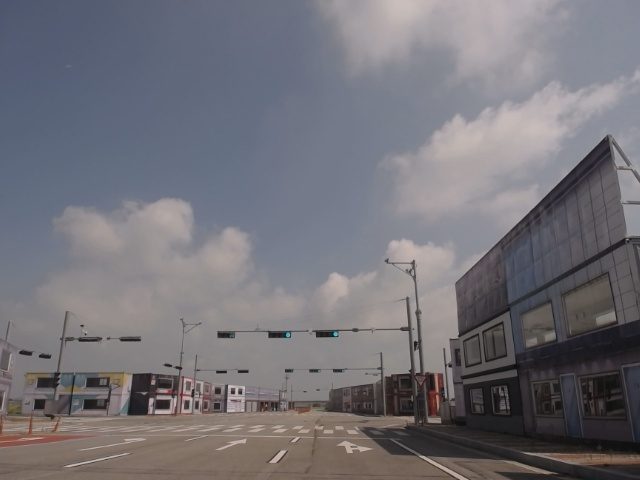straight_green_4: (268, 331, 293, 339), (317, 329, 339, 338)
